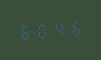four: (50, 20, 65, 38)
six: (18, 22, 33, 41), (66, 18, 81, 37)
zero: (34, 21, 49, 40)
